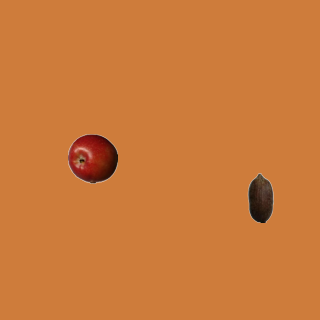Apple Braeburn: (67, 133, 117, 183)
Nut Pecan: (235, 172, 285, 222)
